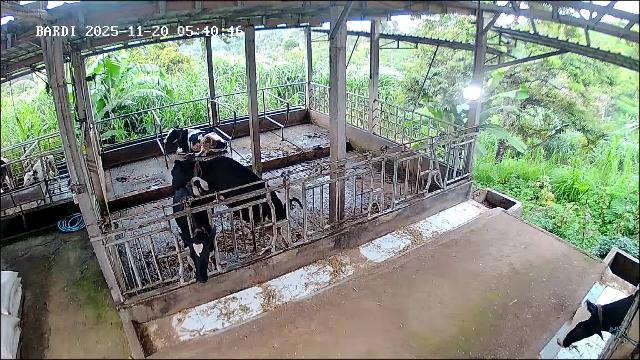mounting: (171, 153, 296, 257)
